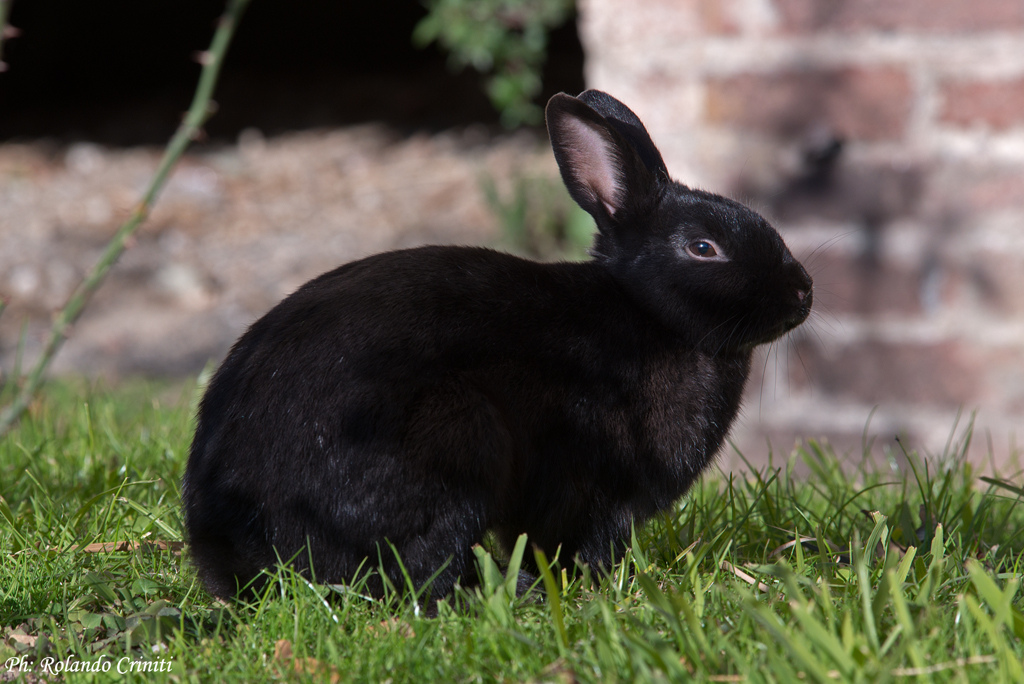bunny: (136, 65, 836, 644)
